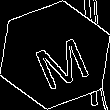M_N: (22, 23, 88, 87)
